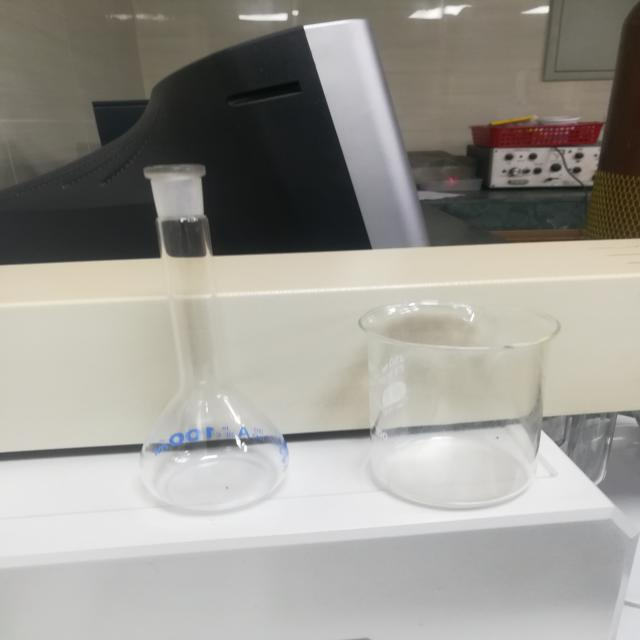Beaker: (342, 286, 573, 523)
Volumetric_Flask: (95, 139, 313, 527)
